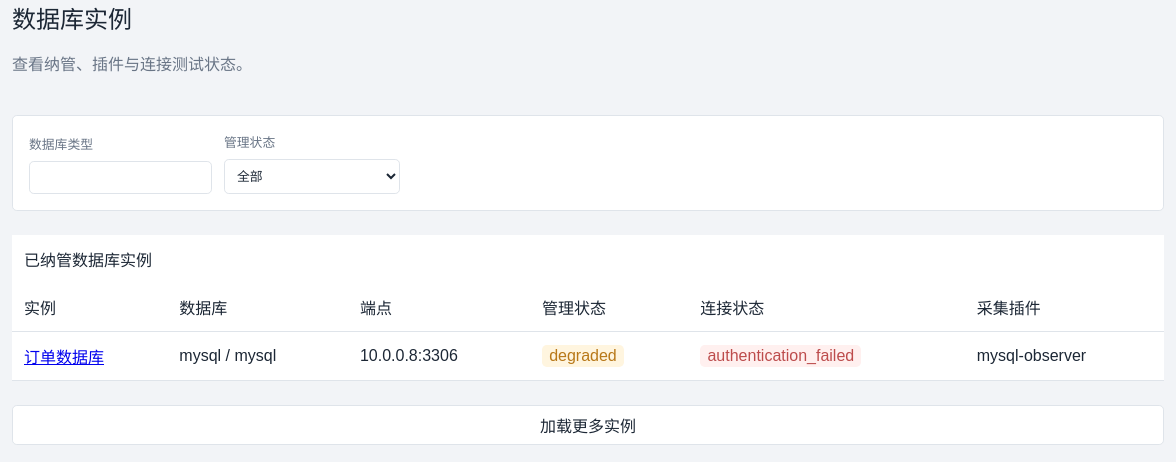
Test: Database instance management pages › loads the next instance cursor instead of silently truncating inventory
This screenshot has width=1176, height=462.
Click the button "加载更多实例".
click(588, 425)  # box [12,405,1164,445]
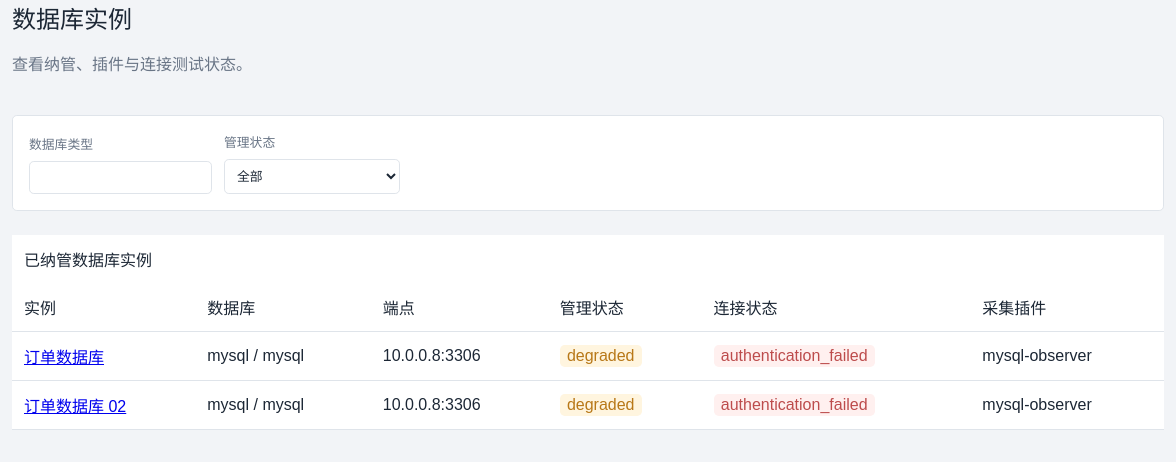
Expected: the link "订单数据库 02" is shown, [24,398,126,415]
